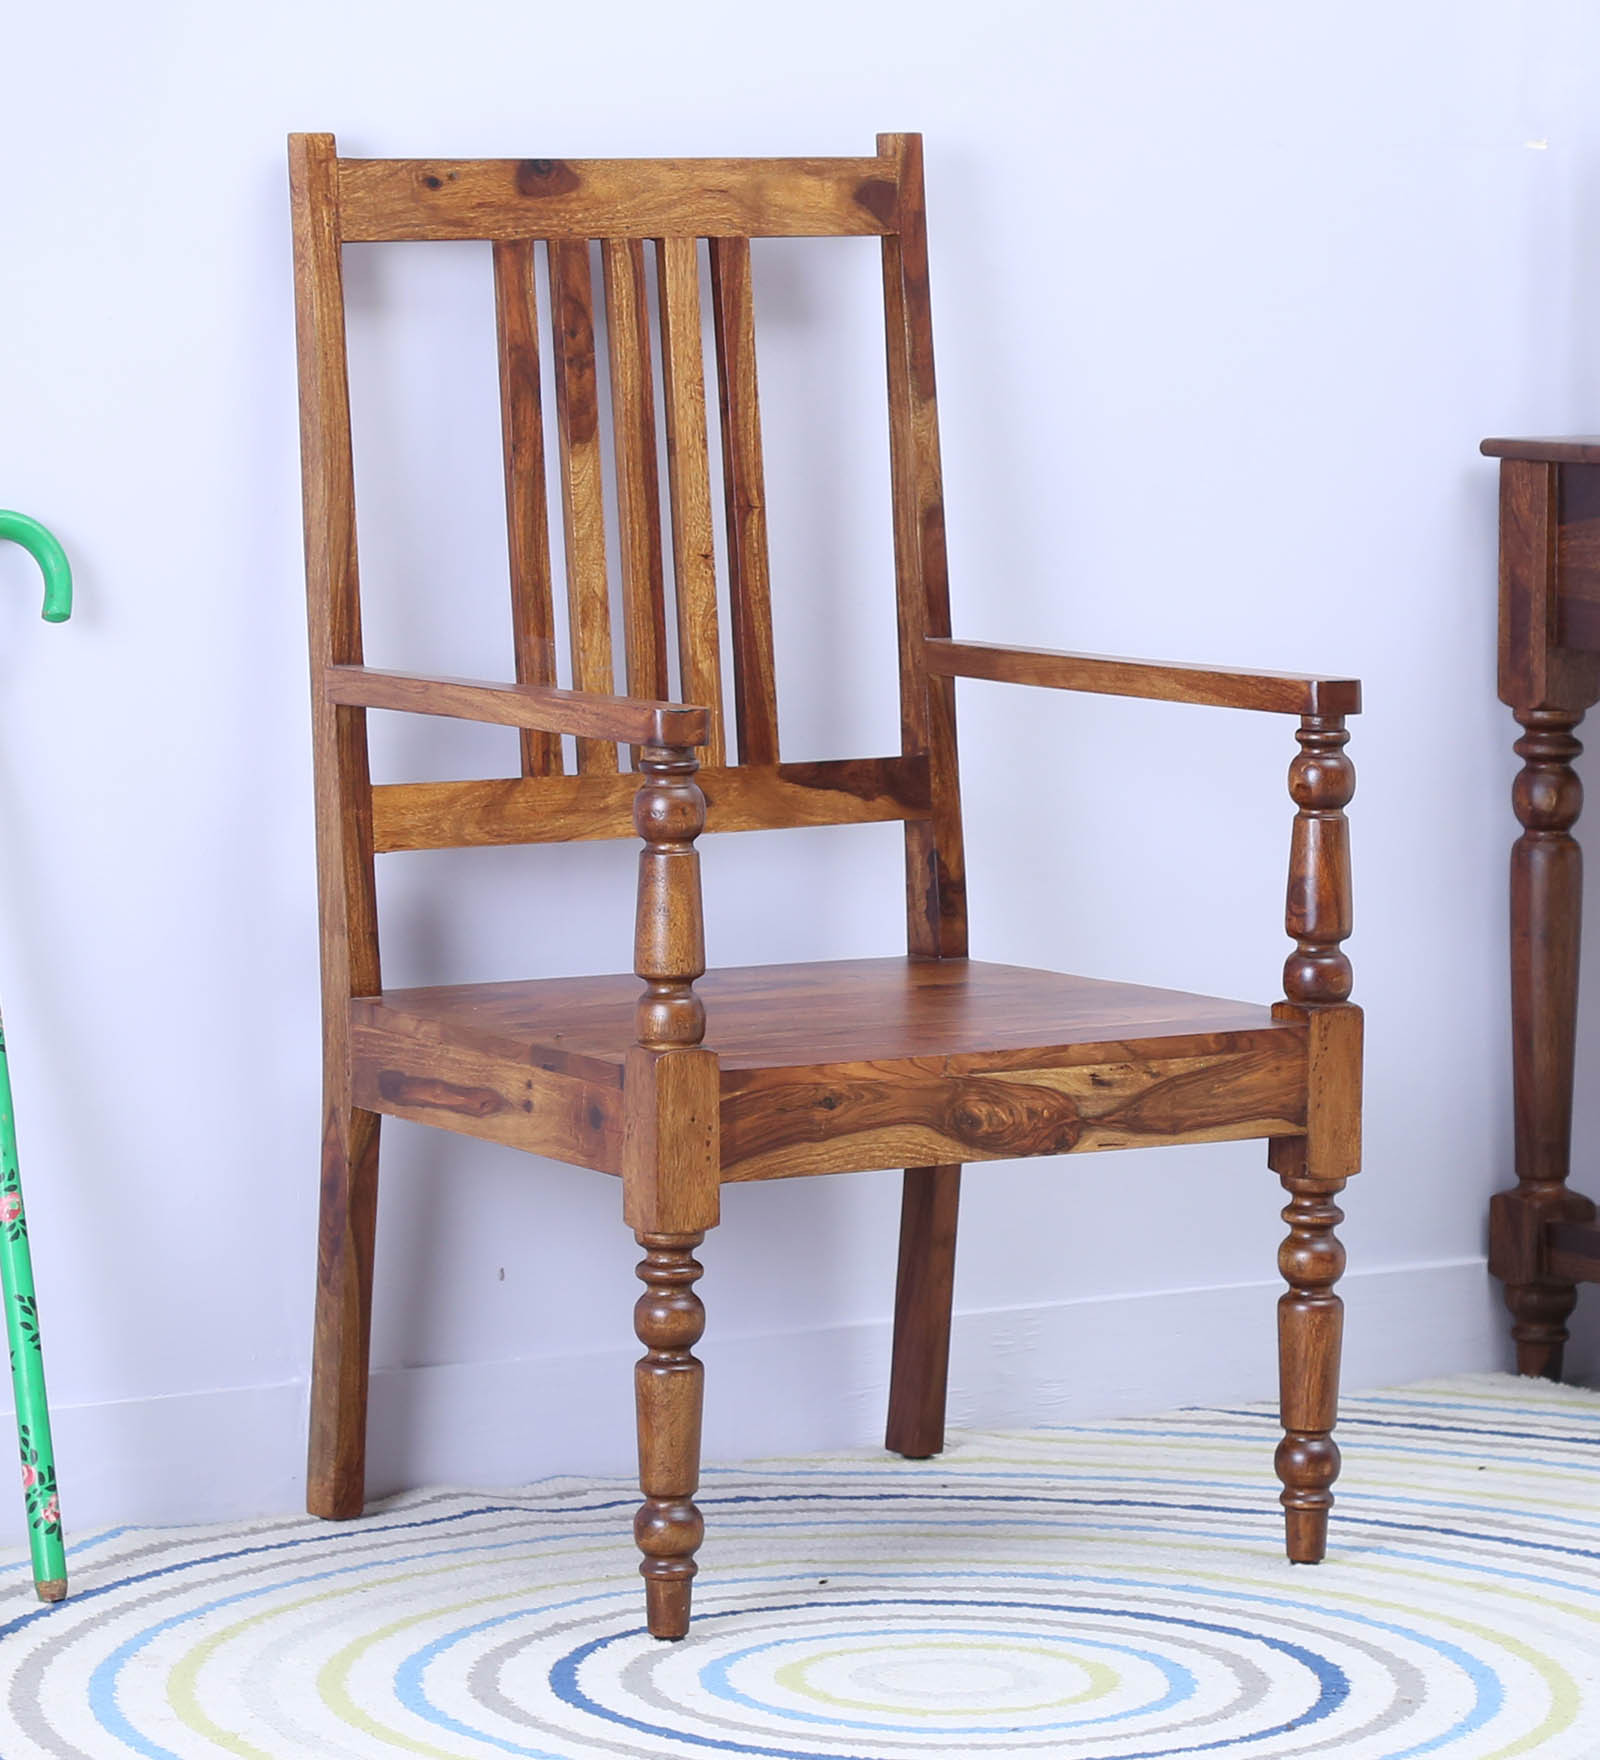Harleston Arm Chair in Provincial Teak Finish by Amberville: (241, 104, 1418, 1666)
